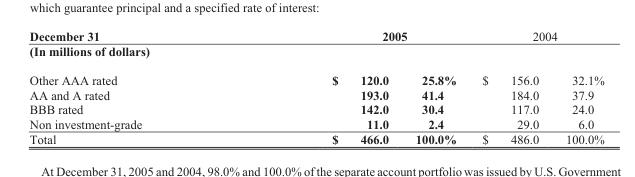table: (28, 28, 603, 145)
table column: (28, 28, 236, 145), (236, 28, 401, 145), (468, 28, 551, 145), (401, 28, 468, 145), (551, 28, 603, 145)
table column header: (28, 28, 603, 43)
table projected row header: (28, 43, 603, 65)
table row: (28, 43, 603, 65), (28, 65, 603, 87), (28, 28, 603, 43), (28, 101, 603, 116), (28, 116, 603, 131), (28, 87, 603, 101), (28, 131, 603, 145)
table spanning cell: (236, 28, 468, 43), (468, 28, 603, 43)
